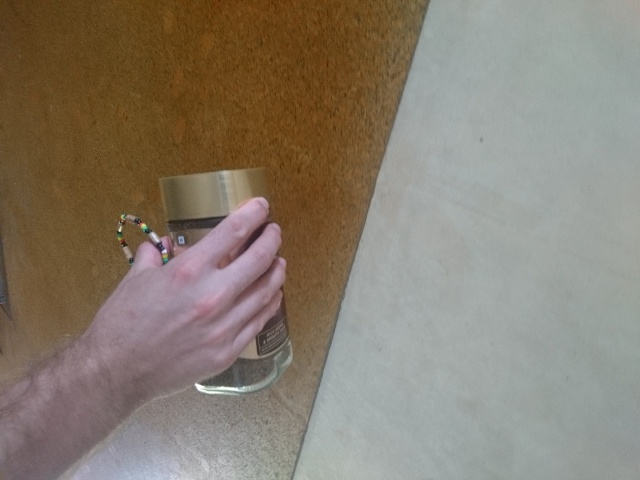Nescafe Gold 225g: (154, 163, 297, 400)
